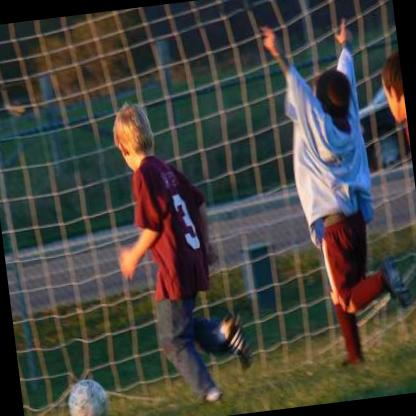ball: (67, 379, 109, 416)
